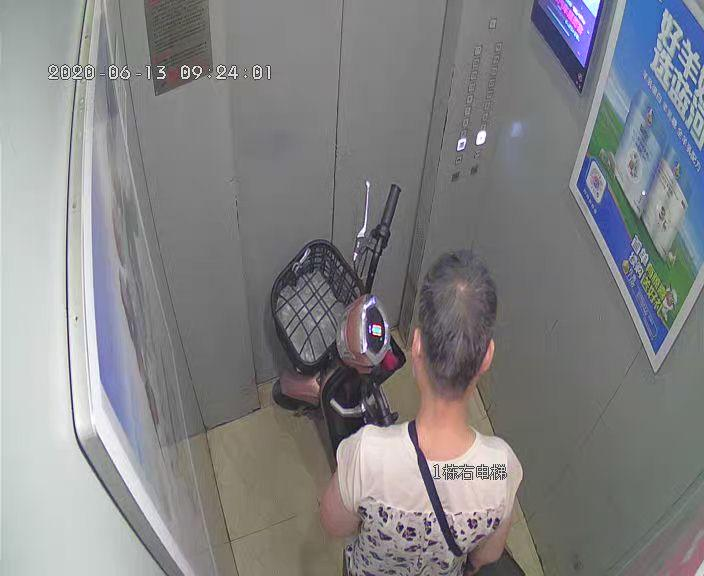Electric-bicycle: (267, 182, 521, 575)
